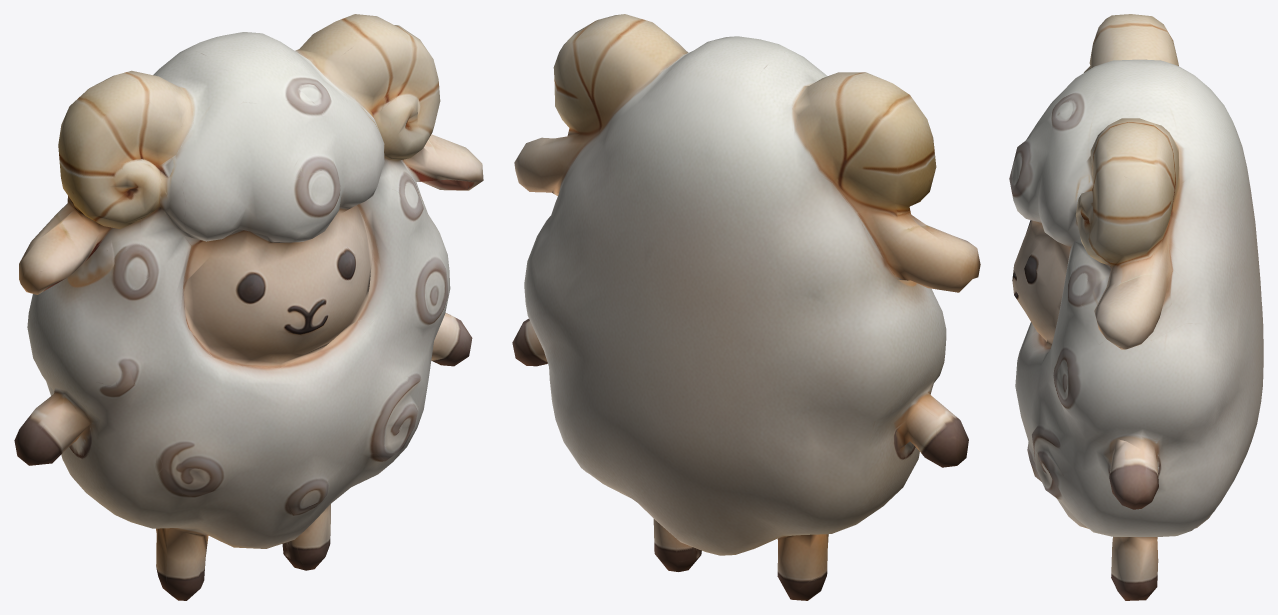
File: sheep.glb
3 renders of one model, left to right at view 1: azimuth 30°, elevation 25°; view 2: azimuth 150°, elevation 25°; view 3: azimuth 270°, elevation 25°, orthographic. The views are drawn at different scales.
Visible parts, largest first — view 1: material_0; view 2: material_0; view 3: material_0.
Boxes of the visible parts, x1,y1,x2,y2 form: material_0: (14, 14, 483, 600); material_0: (512, 14, 980, 600); material_0: (1009, 14, 1263, 600).
Bounding box in the file's own units: 0.8878 × 0.998 × 0.4581.
Materials: 1 (1 with a texture image).
